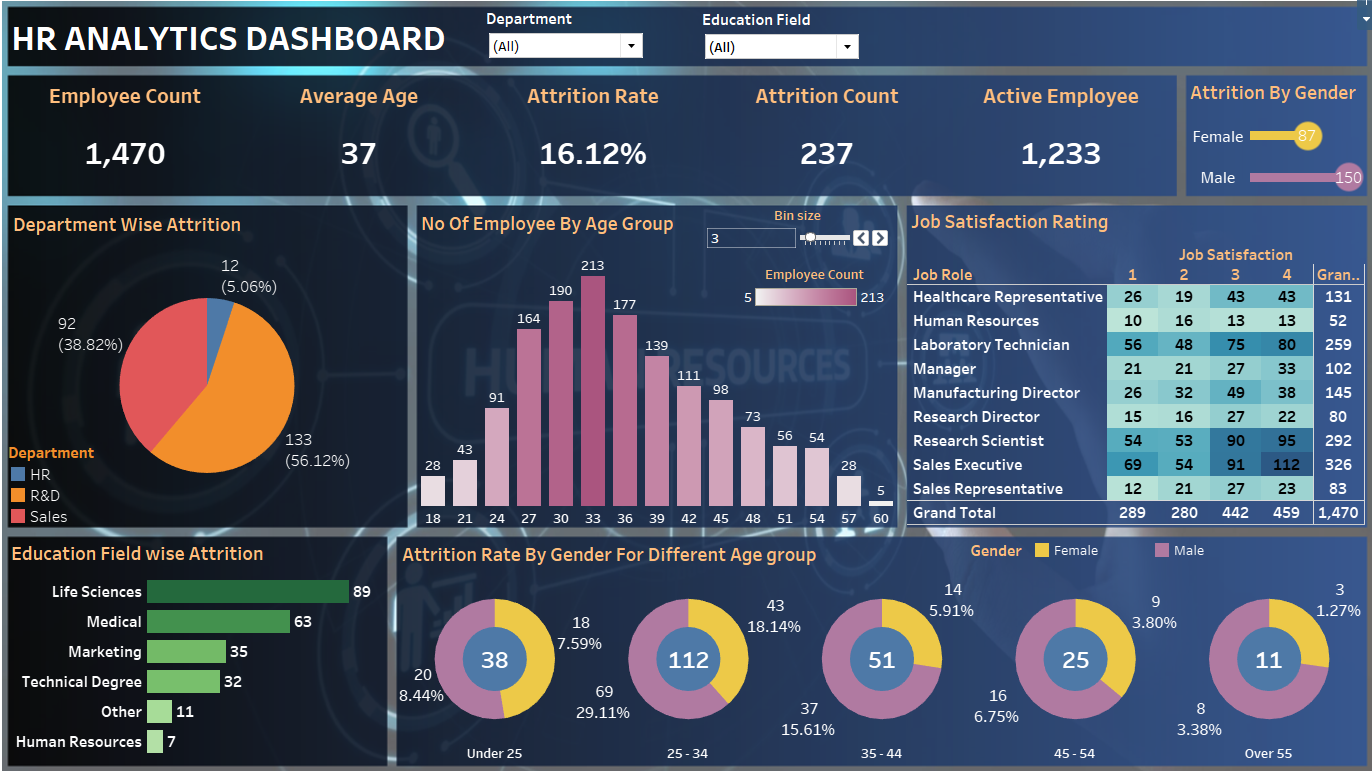

What the dashboard file says about the page in this screenshot:
{"tool":"tableau","page":{"name":"HR Dashboard","canvas":[1000,1000],"units":"permille","ordinal":0},"visuals":[{"type":"image","param":"C:/Users/prita/Downloads/Copy of HR background.pptx.png","box":[4.8,9.4,893.8,981.2]},{"type":"text","box":[12.7,22.3,453.8,71.7]},{"type":"filter","title":"Department Wise Attrition","param":"[federated.1df541b0vixv1c1fiucdj1ds6fbv].[none:Department:nk]","box":[588.4,24.7,102.6,72.9]},{"type":"filter","title":"Education Field wise Attrition","param":"[federated.1df541b0vixv1c1fiucdj1ds6fbv].[none:Education Field:nk]","box":[449.6,25.9,102.6,222.1]},{"type":"worksheet","title":"Attrition By Gender","mark":"Automatic","rows":["Gender"],"cols":["Calculation_313000186969546752","Calculation_313000186969546752"],"box":[774.3,110.5,117.7,144.5]},{"type":"worksheet","title":"Sheet 2","mark":"Automatic","box":[13.3,111.6,752.6,139.8]},{"type":"worksheet","title":"Department Wise Attrition","mark":"Pie","box":[12.7,273.8,254.7,401.9]},{"type":"worksheet","title":"No Of Employee By Age Group","mark":"Automatic","rows":["Employee Count"],"cols":["Age (bin)"],"box":[278.2,273.8,308.4,401.9]},{"type":"worksheet","title":"Job Satisfaction Rating","mark":"Square","rows":["Job Role"],"cols":["Job Satisfaction"],"box":[594.5,273.8,294.5,398.4]},{"type":"parameter","param":"[Parameters].[Parameter 1]","box":[459.2,287.9,120.3,62.3]},{"type":"legend","title":"No Of Employee By Age Group","param":"[federated.1df541b0vixv1c1fiucdj1ds6fbv].[sum:Employee Count:qk]","box":[482.3,357.2,95.8,92.8]},{"type":"legend","title":"Department Wise Attrition","param":"[federated.1df541b0vixv1c1fiucdj1ds6fbv].[none:Department:nk]","box":[11.6,565.2,90,99.9]},{"type":"worksheet","title":"Education Field wise Attrition","mark":"Automatic","rows":["Education Field"],"cols":["Calculation_313000186969546752"],"box":[10.9,691,245,285.6]},{"type":"worksheet","title":"Attrition Rate By Gender For Different Age group","mark":"Pie","rows":["Calculation_313000190151979016","Calculation_313000190152028170"],"cols":["CF_age band"],"box":[266.1,694.5,622.8,267.9]},{"type":"legend","title":"Attrition Rate By Gender For Different Age group","param":"[federated.1df541b0vixv1c1fiucdj1ds6fbv].[none:Gender:nk]","box":[668.7,700.4,275.8,42.3]}]}

Visuals, with their boxes on the dashboard's canvas, which has no fixed pixel size, in thousandths of its width and height (x1, y1, x2, y2). These are canvas units, not pixel positions in the 1372x771 screenshot, which may show the page scaled, cropped or inside an application window:
image: pyautogui.locateOnScreen(5, 9, 899, 991)
text: pyautogui.locateOnScreen(13, 22, 466, 94)
"Department Wise Attrition" filter: pyautogui.locateOnScreen(588, 25, 691, 98)
"Education Field wise Attrition" filter: pyautogui.locateOnScreen(450, 26, 552, 248)
"Attrition By Gender" worksheet: pyautogui.locateOnScreen(774, 110, 892, 255)
"Sheet 2" worksheet: pyautogui.locateOnScreen(13, 112, 766, 251)
"Department Wise Attrition" worksheet (Pie marks): pyautogui.locateOnScreen(13, 274, 267, 676)
"No Of Employee By Age Group" worksheet: pyautogui.locateOnScreen(278, 274, 587, 676)
"Job Satisfaction Rating" worksheet (Square marks): pyautogui.locateOnScreen(594, 274, 889, 672)
parameter: pyautogui.locateOnScreen(459, 288, 580, 350)
"No Of Employee By Age Group" legend: pyautogui.locateOnScreen(482, 357, 578, 450)
"Department Wise Attrition" legend: pyautogui.locateOnScreen(12, 565, 102, 665)
"Education Field wise Attrition" worksheet: pyautogui.locateOnScreen(11, 691, 256, 977)
"Attrition Rate By Gender For Different Age group" worksheet (Pie marks): pyautogui.locateOnScreen(266, 694, 889, 962)
"Attrition Rate By Gender For Different Age group" legend: pyautogui.locateOnScreen(669, 700, 944, 743)
